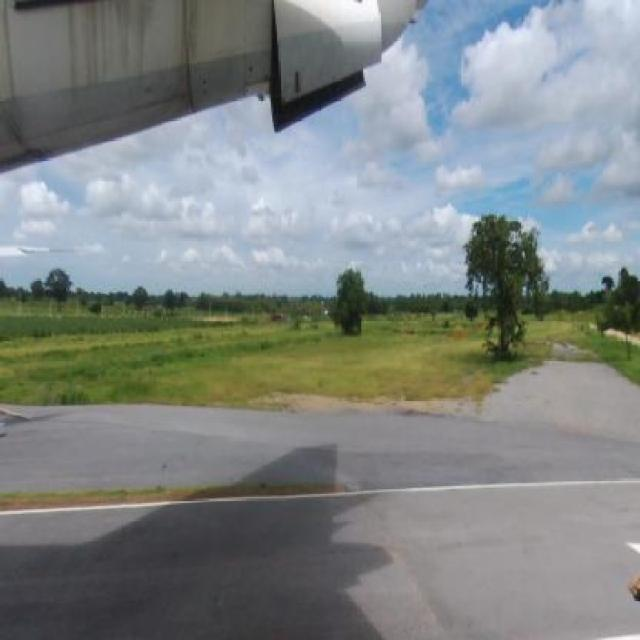Rust: (61, 1, 162, 117), (172, 6, 212, 112)
